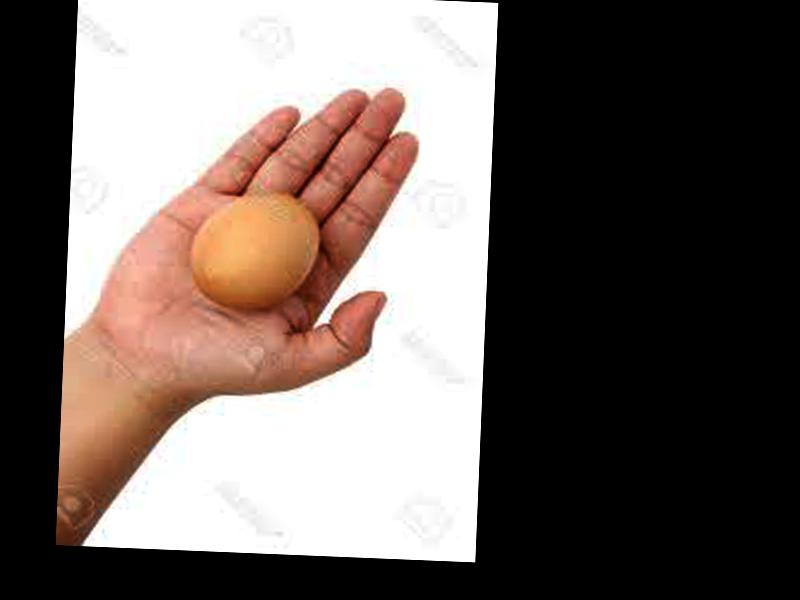Eggs: (189, 192, 319, 313)
